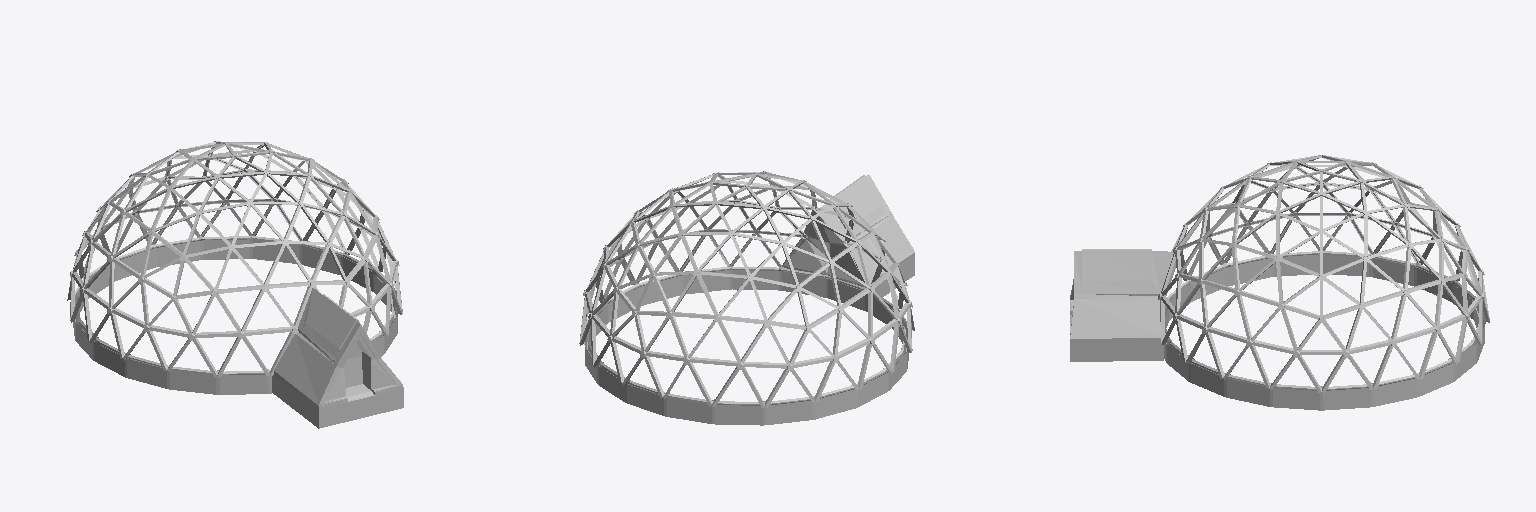
Rendered from establo.obj.
3 renders of one model, left to right at view 1: azimuth 30°, elevation 25°; view 2: azimuth 150°, elevation 25°; view 3: azimuth 270°, elevation 25°, orthographic.
Visible parts, largest first — view 1: Icosphere; view 2: Icosphere; view 3: Icosphere.
Part boxes in pixels (bbox=[...]): Icosphere: bbox=[67, 141, 403, 428]; Icosphere: bbox=[579, 171, 914, 425]; Icosphere: bbox=[1070, 155, 1489, 410].
Bounding box in the file's own units: 3.54 × 1.99 × 4.42.